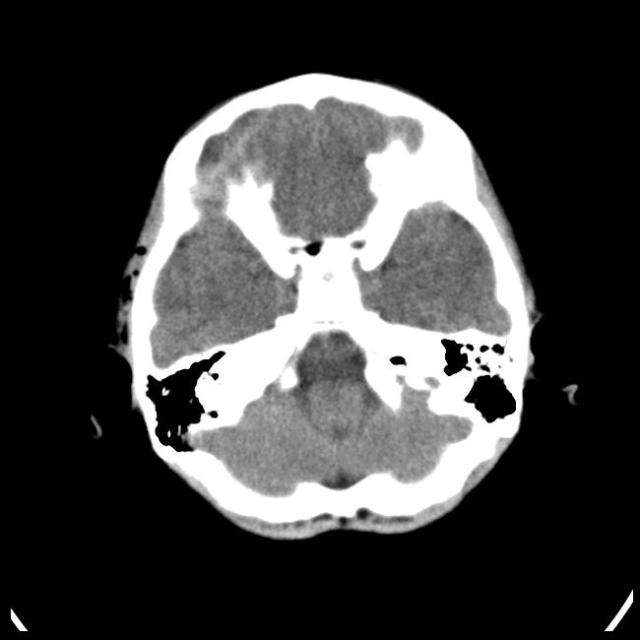lesion: (110, 71, 542, 541)
